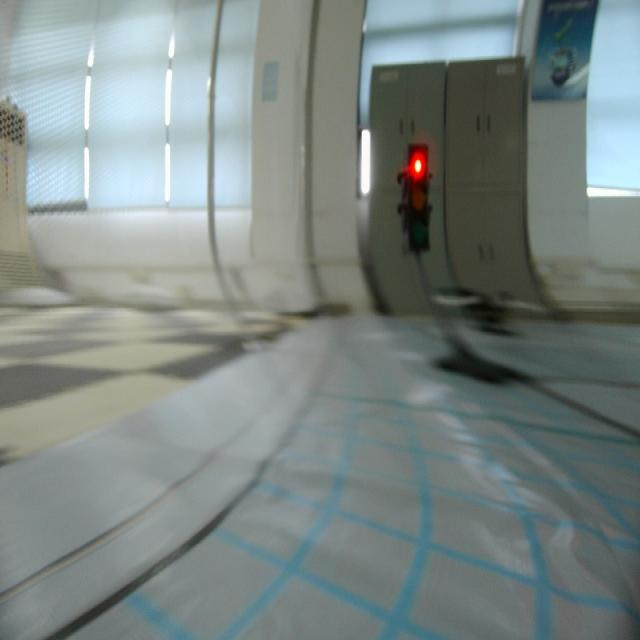red: (394, 143, 436, 259)
